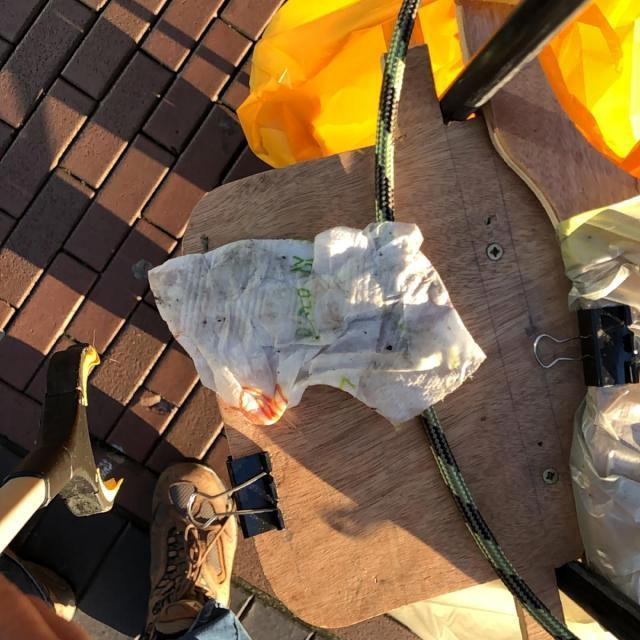Paper: (146, 220, 490, 436)
